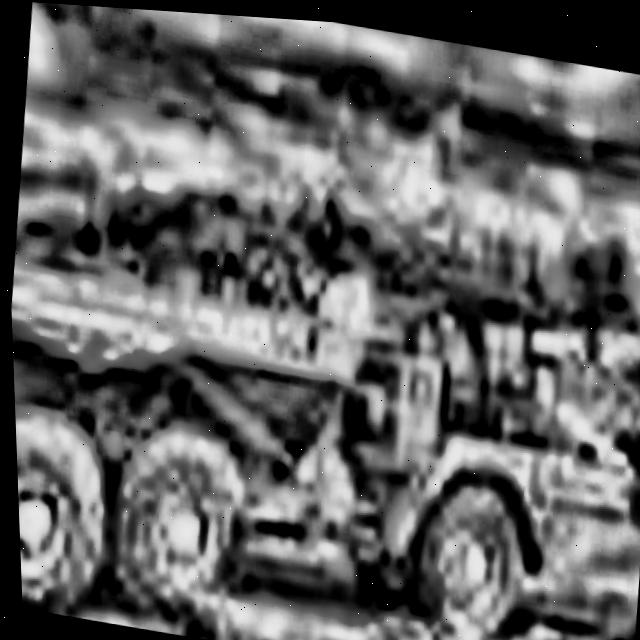dump_truck: (4, 144, 640, 640)
